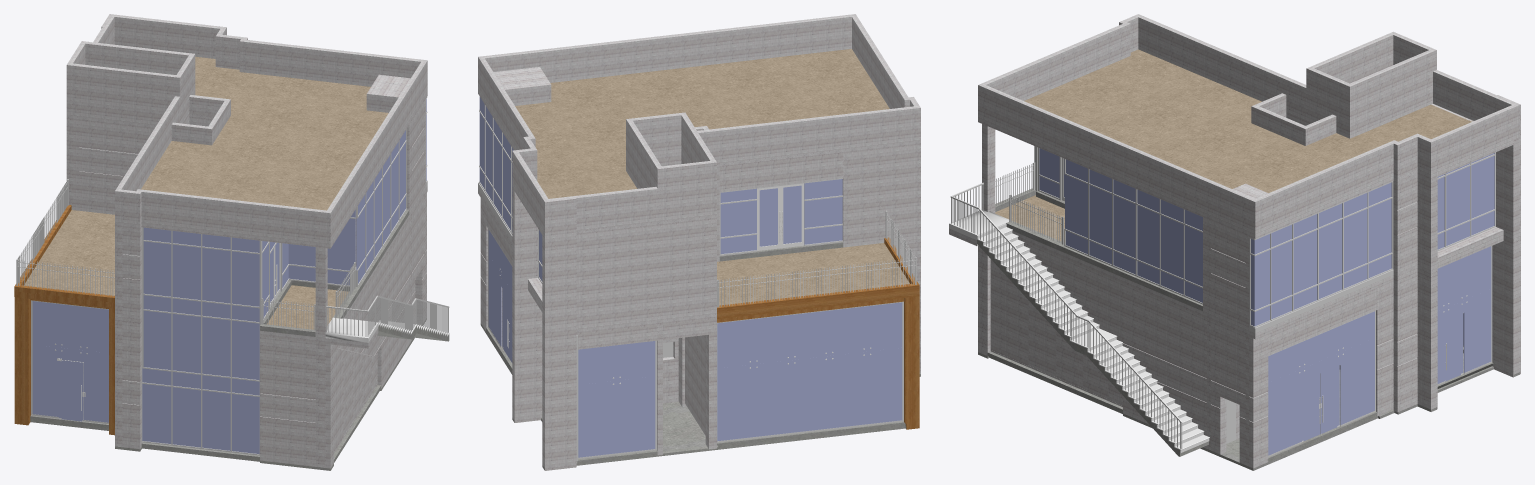
3 renders of one model, left to right at view 1: azimuth 30°, elevation 25°; view 2: azimuth 150°, elevation 25°; view 3: azimuth 270°, elevation 25°, orthographic. The views are drawn at different scales.
Visible parts, largest first — view 1: Floor F.F-SLAB [347451], Floor G.F-SLAB [345742], Basic Wall WALL-30CM [405413], Basic Wall WALL-20CM [348560], Basic Wall WALL-20CM [349039], Basic Wall WALL-20CM [348718], Basic Wall WALL-20CM [355864], Basic Wall WALL-30CM [352537], Basic Wall WALL-20CM [351033], Basic Wall WALL-20CM [348656], Basic Wall WALL-20CM [348867], Columns -01 Columns -01 [346716].002 (+48 smaller); view 2: Floor F.F-SLAB [347451], Basic Wall WALL-20CM [348656], Floor G.F-SLAB [345742], Basic Wall WALL-50CM [446433], Basic Wall WALL-30CM [356223], Basic Wall WALL-20CM [349109], Basic Wall WALL-30CM [354368], Basic Wall WALL-50CM [420835], Basic Wall WALL-30CM [355996], BEAMS BEAMS [347208].008, Basic Wall WALL-20CM [349694], Basic Wall WALL-20CM [348926] (+49 smaller); view 3: Floor F.F-SLAB [347451], Basic Wall WALL-30CM [352537], Basic Wall WALL-20CM [348656], Basic Wall WALL-20CM [351566], Basic Wall WALL-20CM [349109], Floor G.F-SLAB [345742], Basic Wall WALL-20CM [348718], Basic Wall WALL-20CM [349237], Basic Wall WALL-20CM [348560], Basic Wall WALL-30CM [350260], Monolithic Run 150mm Depth [428959]_[428960], Monolithic Run 150mm Depth [428961]_[428962] (+64 smaller).
Part boxes in pixels (<box>): Floor F.F-SLAB [347451]: <box>66,56,427,248</box>; Floor G.F-SLAB [345742]: <box>14,186,427,348</box>; Basic Wall WALL-30CM [405413]: <box>260,336,315,466</box>; Basic Wall WALL-20CM [348560]: <box>141,189,331,243</box>; Basic Wall WALL-20CM [349039]: <box>71,63,181,124</box>; Basic Wall WALL-20CM [348718]: <box>244,39,422,86</box>; Basic Wall WALL-20CM [355864]: <box>79,121,153,214</box>; Basic Wall WALL-30CM [352537]: <box>334,218,410,388</box>; Basic Wall WALL-20CM [351033]: <box>122,227,141,449</box>; Basic Wall WALL-20CM [348656]: <box>327,59,427,241</box>; Basic Wall WALL-20CM [348867]: <box>110,14,221,58</box>; Columns -01 Columns -01 [346716].002: <box>315,247,327,467</box>; Floor F.F-SLAB [347451]: <box>478,49,920,238</box>; Basic Wall WALL-20CM [348656]: <box>478,14,851,90</box>; Floor G.F-SLAB [345742]: <box>478,188,920,337</box>; Basic Wall WALL-50CM [446433]: <box>544,198,576,470</box>; Basic Wall WALL-30CM [356223]: <box>542,221,657,331</box>; Basic Wall WALL-20CM [349109]: <box>697,105,920,162</box>; Basic Wall WALL-30CM [354368]: <box>842,146,904,247</box>; Basic Wall WALL-50CM [420835]: <box>514,191,542,422</box>; Basic Wall WALL-30CM [355996]: <box>657,215,711,319</box>; BEAMS BEAMS [347208].008: <box>719,150,843,192</box>; Basic Wall WALL-20CM [349694]: <box>656,160,716,220</box>; Basic Wall WALL-20CM [348926]: <box>549,187,660,229</box>; Floor F.F-SLAB [347451]: <box>978,49,1519,239</box>; Basic Wall WALL-30CM [352537]: <box>1018,239,1206,448</box>; Basic Wall WALL-20CM [348656]: <box>982,85,1258,234</box>; Basic Wall WALL-20CM [351566]: <box>1393,135,1417,412</box>; Basic Wall WALL-20CM [349109]: <box>1135,14,1306,119</box>; Floor G.F-SLAB [345742]: <box>949,195,1519,339</box>; Basic Wall WALL-20CM [348718]: <box>1255,142,1393,232</box>; Basic Wall WALL-20CM [349237]: <box>1346,50,1432,138</box>; Basic Wall WALL-20CM [348560]: <box>978,24,1126,118</box>; Basic Wall WALL-30CM [350260]: <box>1419,175,1436,409</box>; Monolithic Run 150mm Depth [428959]_[428960]: <box>1087,337,1209,453</box>; Monolithic Run 150mm Depth [428961]_[428962]: <box>977,223,1099,340</box>.
Size of the model in its own units: 18.5 by 11.7 by 20.93.
7 materials, 4 textured.
